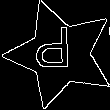P_S: (40, 28, 80, 80)
